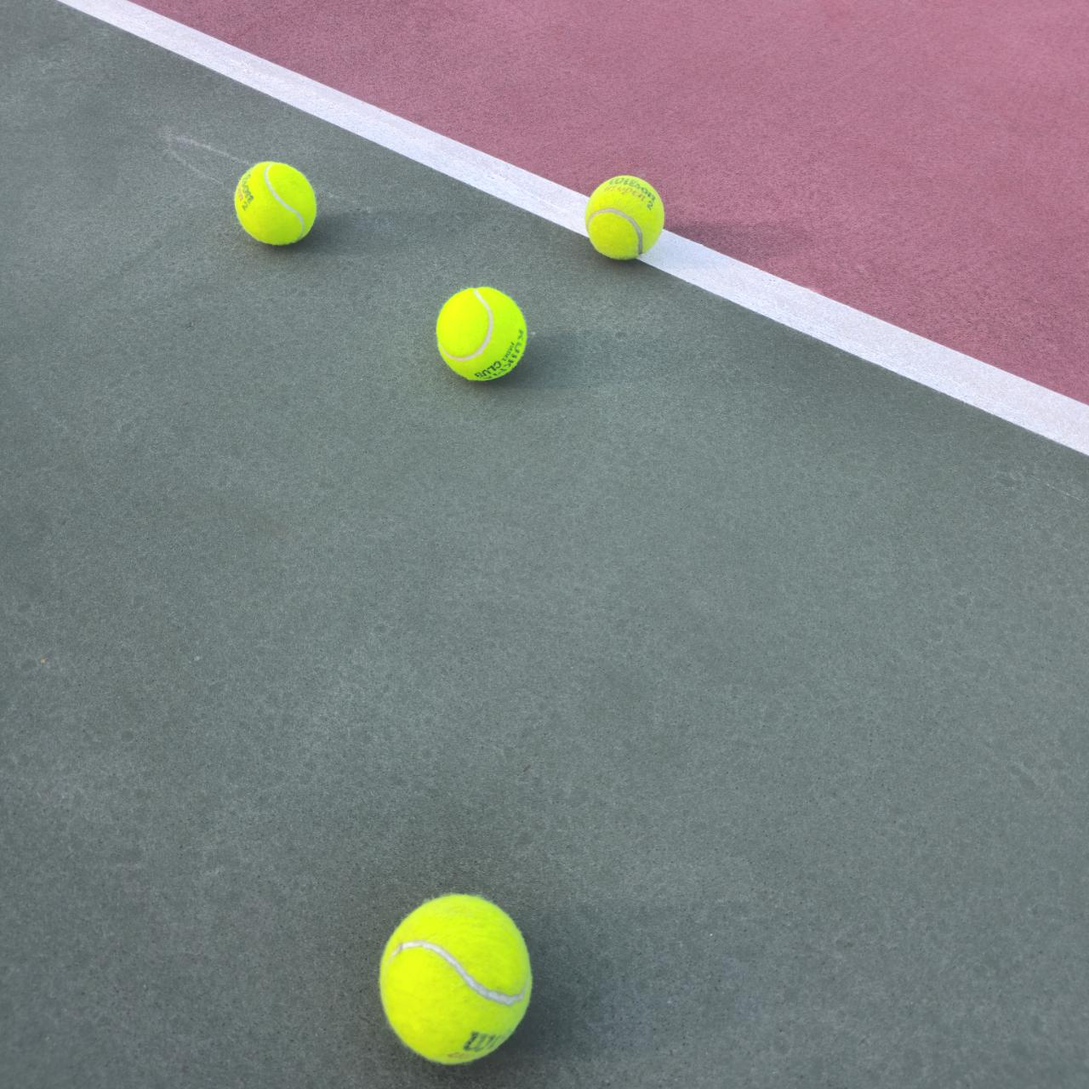tennis-ball: (376, 890, 533, 1067), (433, 282, 529, 382), (231, 157, 318, 247), (582, 172, 665, 261)
